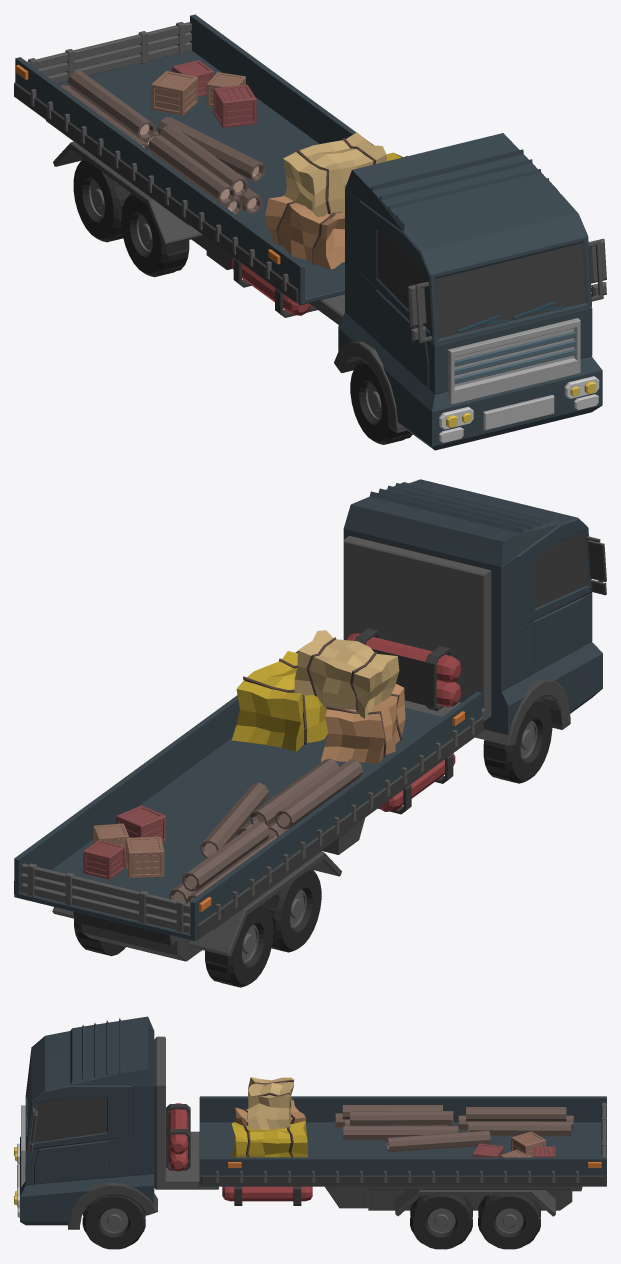
3 views of the same model, one above another, from view 1: azimuth 30°, elevation 25°; view 2: azimuth 150°, elevation 25°; view 3: azimuth 270°, elevation 25° (orthographic). The views are drawn at different scales.
Visible parts, largest first — view 1: truck.005; view 2: truck.005; view 3: truck.005.
Boxes of the visible parts, x1,y1,x2,y2 form: truck.005: (14,14,606,450); truck.005: (14,479,606,987); truck.005: (14,1016,606,1249).
Bounding box in the file's own units: 3.29 × 4.07 × 12.05.
1 material, 1 textured.
